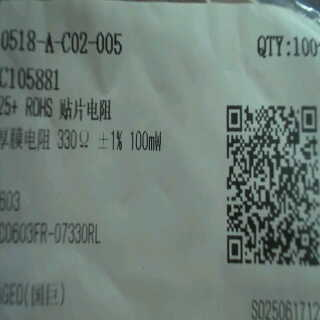330R: (55, 126, 93, 155)
